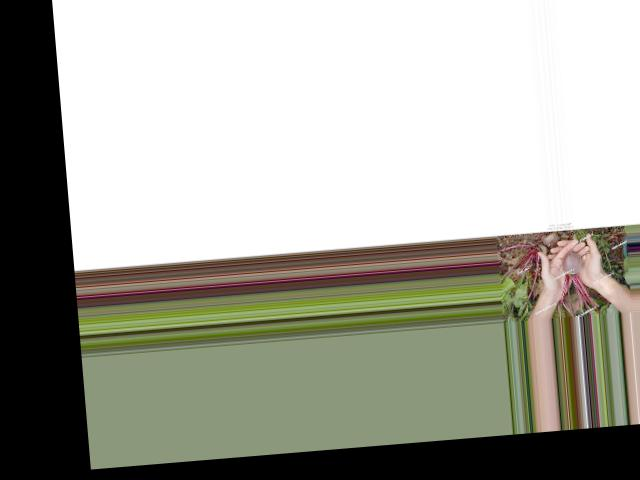beet: (555, 248, 600, 316)
